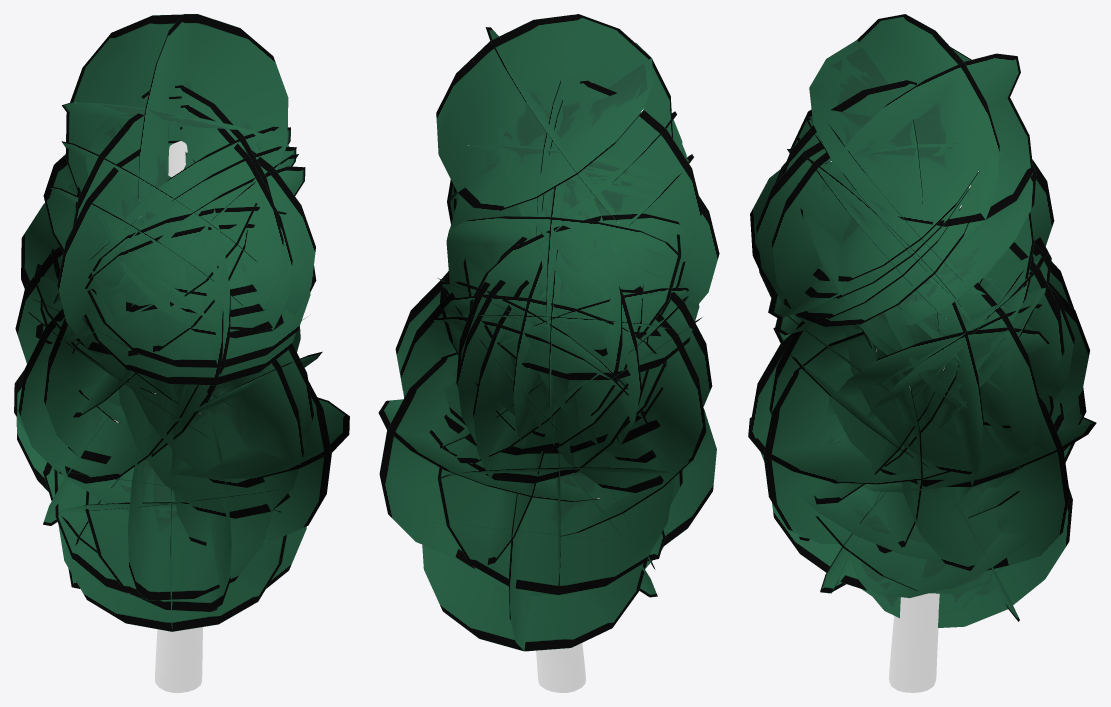
File: base_tree3.fbx
3 renders of one model, left to right at view 1: azimuth 30°, elevation 25°; view 2: azimuth 150°, elevation 25°; view 3: azimuth 270°, elevation 25°, orthographic.
Parts seen in each view (by area): view 1: tronc1; view 2: tronc1; view 3: tronc1.
Part boxes in pixels (<box>): tronc1: <box>14,14,349,692</box>; tronc1: <box>378,14,719,692</box>; tronc1: <box>748,14,1096,692</box>.
Bounding box in the file's own units: 176 × 387 × 184.
